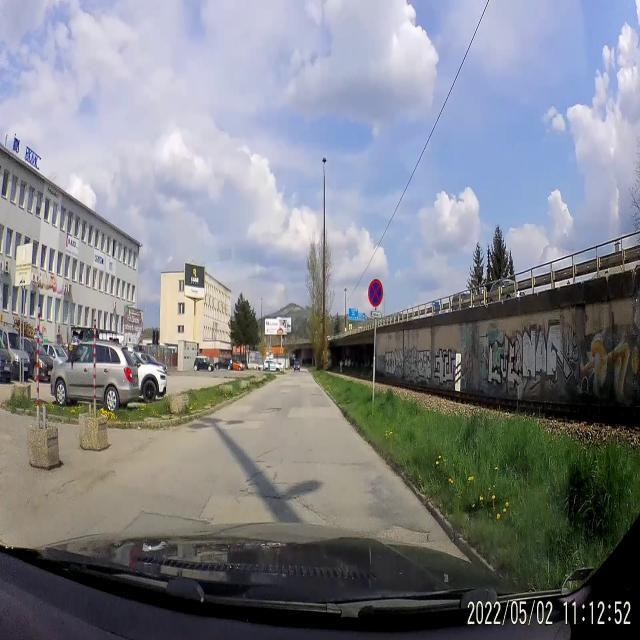Pothole: (238, 462, 280, 502), (374, 520, 436, 540), (262, 402, 283, 422)
